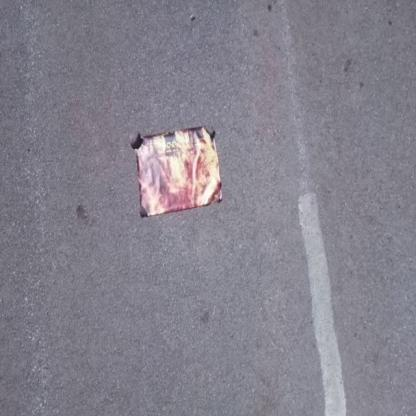fire-poster: (130, 124, 223, 219)
